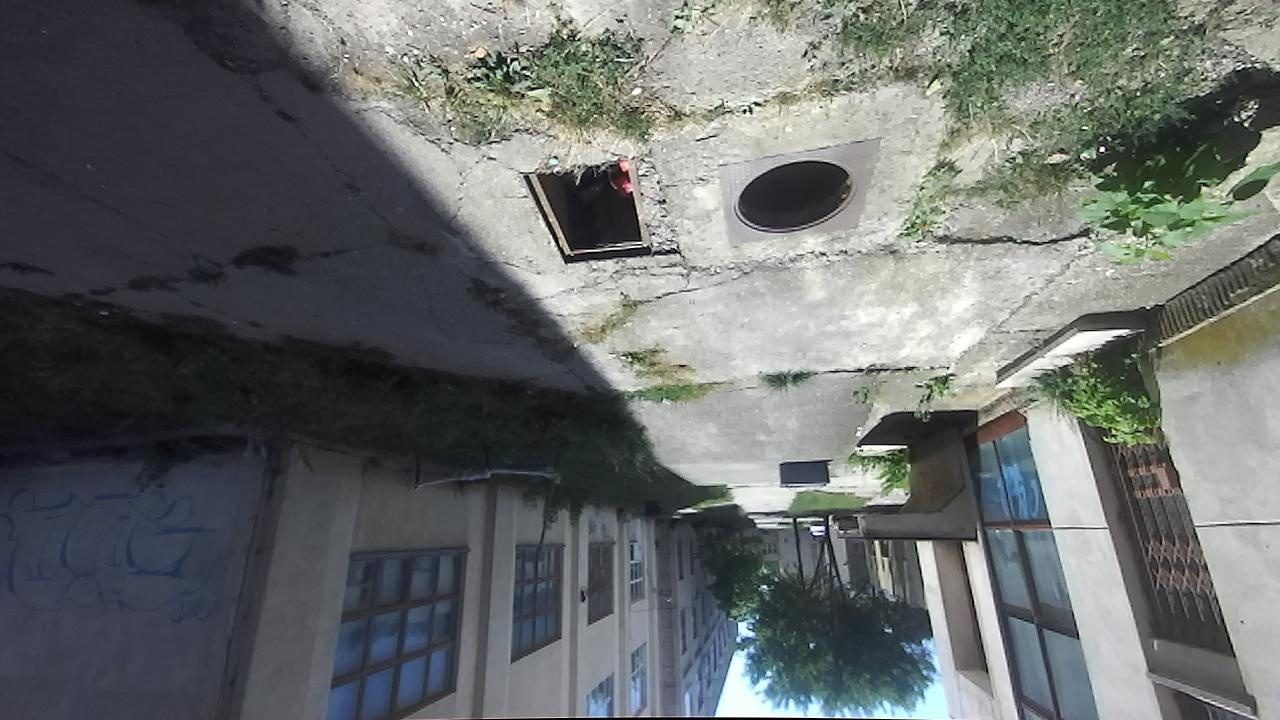drain: (513, 163, 674, 266), (734, 160, 855, 236)
